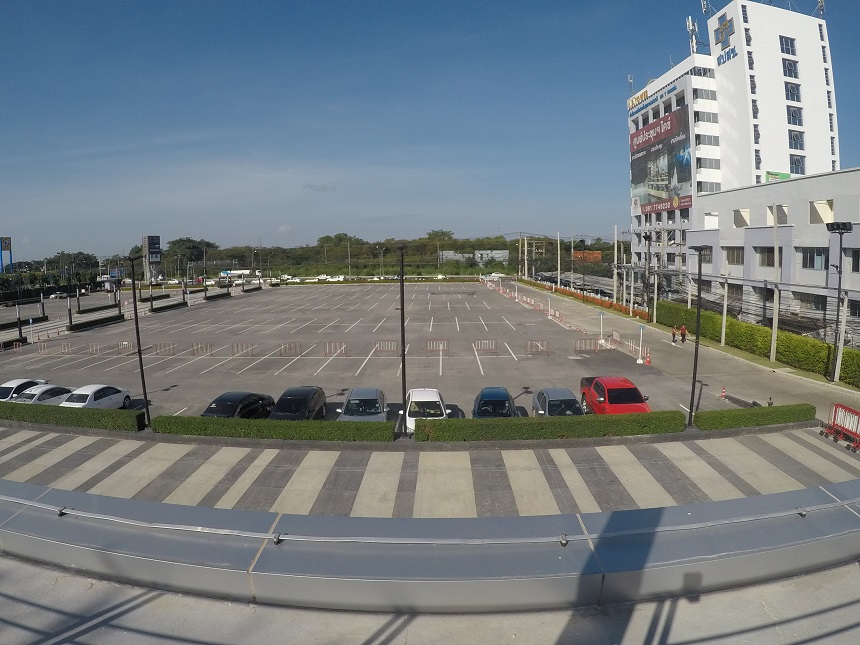busy: (212, 389, 261, 419), (591, 384, 645, 409), (282, 389, 325, 416), (466, 390, 515, 413), (536, 390, 584, 413), (345, 393, 388, 418), (407, 393, 446, 416), (78, 389, 120, 407), (35, 389, 62, 401), (2, 381, 20, 393)
